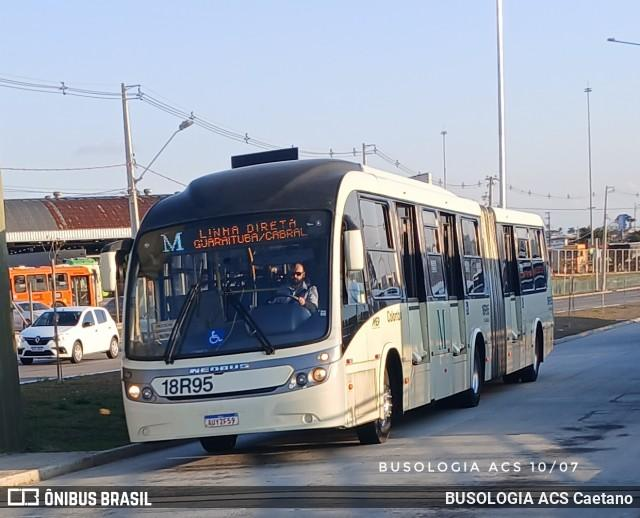GUARAITUBA CABRAL: (191, 225, 307, 252)
